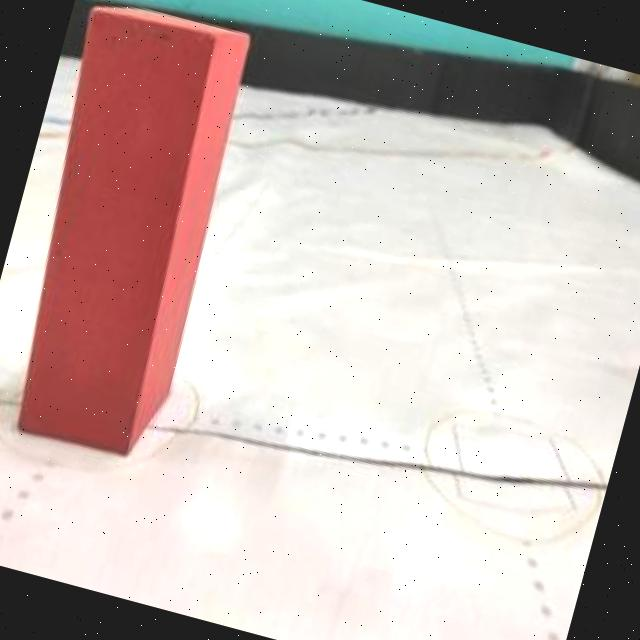redbox: (0, 0, 267, 463)
